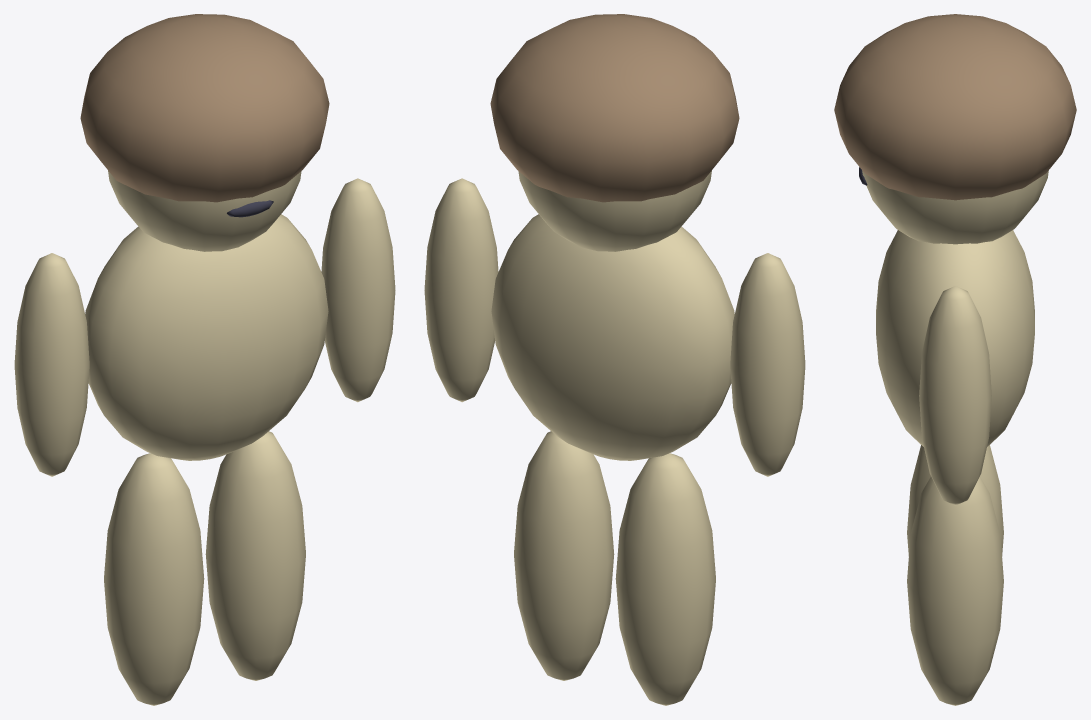
File: explorer.glb
3 views of the same model, side by side, from view 1: azimuth 30°, elevation 25°; view 2: azimuth 150°, elevation 25°; view 3: azimuth 270°, elevation 25° (orthographic).
Visible parts, largest first — view 1: Torso, Helmet, LegLeft, LegRight, ArmLeft, ArmRight, Head; view 2: Torso, Helmet, LegLeft, LegRight, ArmLeft, ArmRight, Head; view 3: Helmet, Torso, LegRight, ArmRight, Head, LegLeft.
Part boxes in pixels (x1,y1,x2,y2): Torso: (85,214,328,460); Helmet: (80,14,329,202); LegLeft: (104,453,204,705); LegRight: (205,431,305,680); ArmLeft: (14,253,89,476); ArmRight: (321,178,395,402); Head: (108,170,301,251); Torso: (491,214,734,460); Helmet: (490,14,739,202); LegLeft: (615,453,715,705); LegRight: (514,431,614,680); ArmLeft: (730,253,805,476); ArmRight: (424,178,498,402); Head: (518,170,711,251); Helmet: (834,14,1076,200); Torso: (876,230,1034,446); LegRight: (907,476,1003,705); ArmRight: (919,286,991,505); Head: (862,170,1048,244); LegLeft: (907,445,1003,556).
Size of the model in its own units: 1.04 by 1.78 by 0.6.
